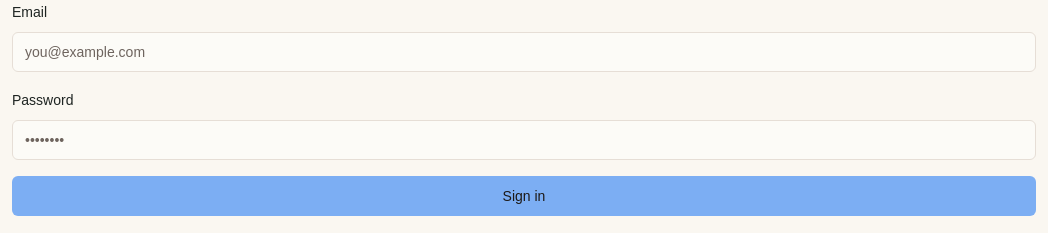
LoginForm › disables form fields and button while loading
Type "test@example.com" into the field labelled "Email".
click(524, 52); type("test@example.com")  # box [12,32,1036,72]
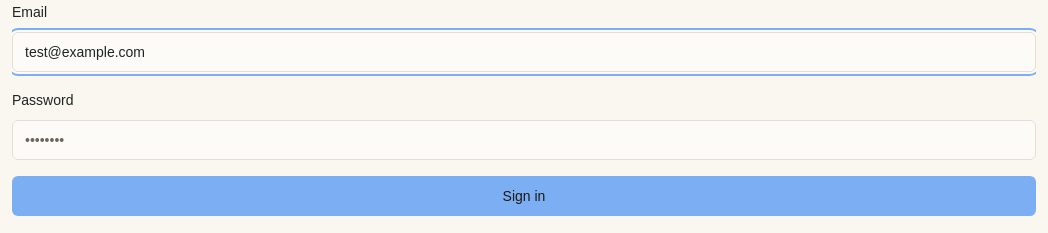
Type "Password123" into the password field labelled "Password".
click(524, 140); type("Password123")  # box [12,120,1036,160]
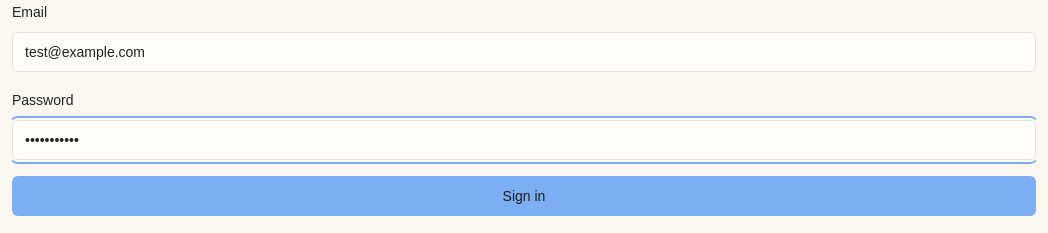
Click the button "Sign in".
click(524, 196)  # box [12,176,1036,216]
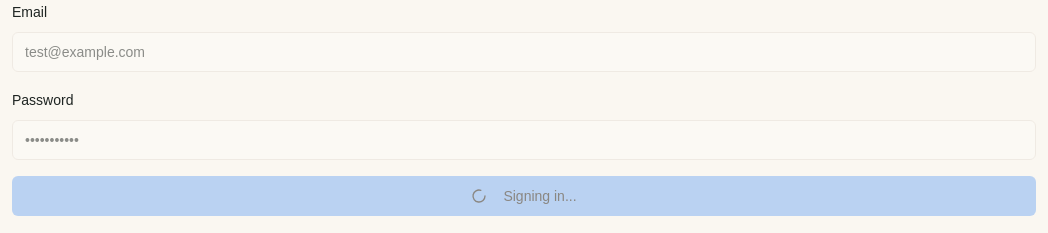
Expected: the field labelled "Email" is disabled, [12,32,1036,72]
Expected: the password field labelled "Password" is disabled, [12,120,1036,160]
Expected: the button named "sign in" is disabled, [12,176,1036,216]
